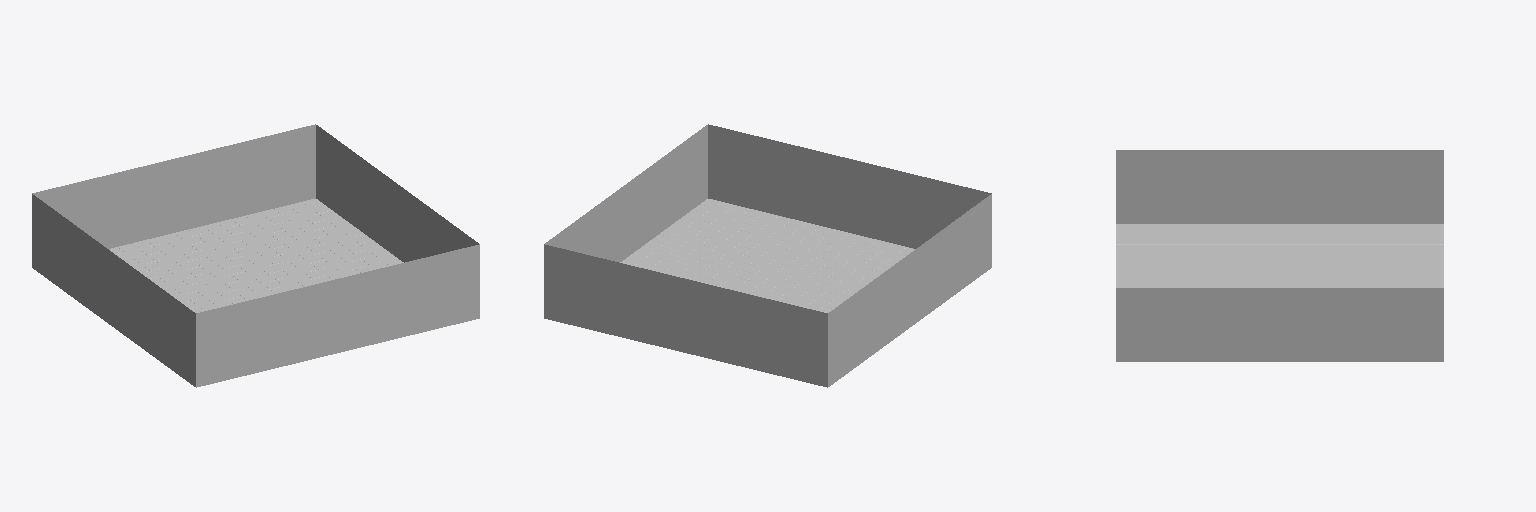
Rendered from house.obj.
3 views of the same model, side by side, from view 1: azimuth 30°, elevation 25°; view 2: azimuth 150°, elevation 25°; view 3: azimuth 270°, elevation 25° (orthographic).
Parts seen in each view (by area): view 1: 平面.004, 平面.001, 平面, 平面.002, 平面.003; view 2: 平面.001, 平面.004, 平面, 平面.002, 平面.003; view 3: 平面.002, 平面.003, 平面.
Part boxes in pixels (bbox=[...]): 平面.004: bbox=[196, 244, 479, 387]; 平面.001: bbox=[32, 124, 315, 248]; 平面: bbox=[109, 199, 463, 384]; 平面.002: bbox=[32, 194, 195, 386]; 平面.003: bbox=[316, 125, 478, 262]; 平面.001: bbox=[544, 244, 827, 387]; 平面.004: bbox=[708, 124, 991, 248]; 平面: bbox=[560, 199, 970, 385]; 平面.002: bbox=[828, 194, 991, 386]; 平面.003: bbox=[545, 125, 707, 262]; 平面.002: bbox=[1116, 150, 1443, 223]; 平面.003: bbox=[1116, 288, 1443, 361]; 平面: bbox=[1116, 224, 1443, 287].
Size of the model in its own units: 20 by 5 by 20.